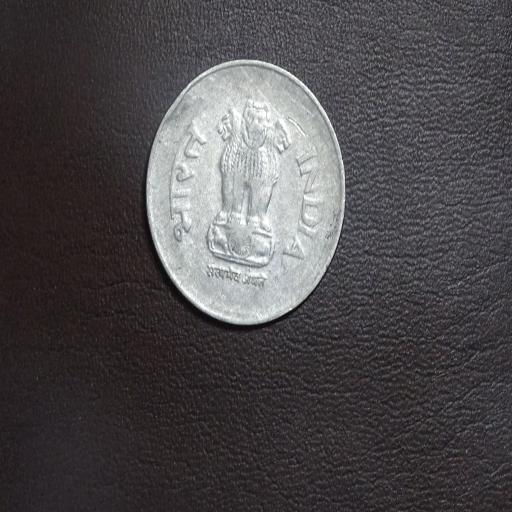rupee1: (146, 61, 344, 322)
